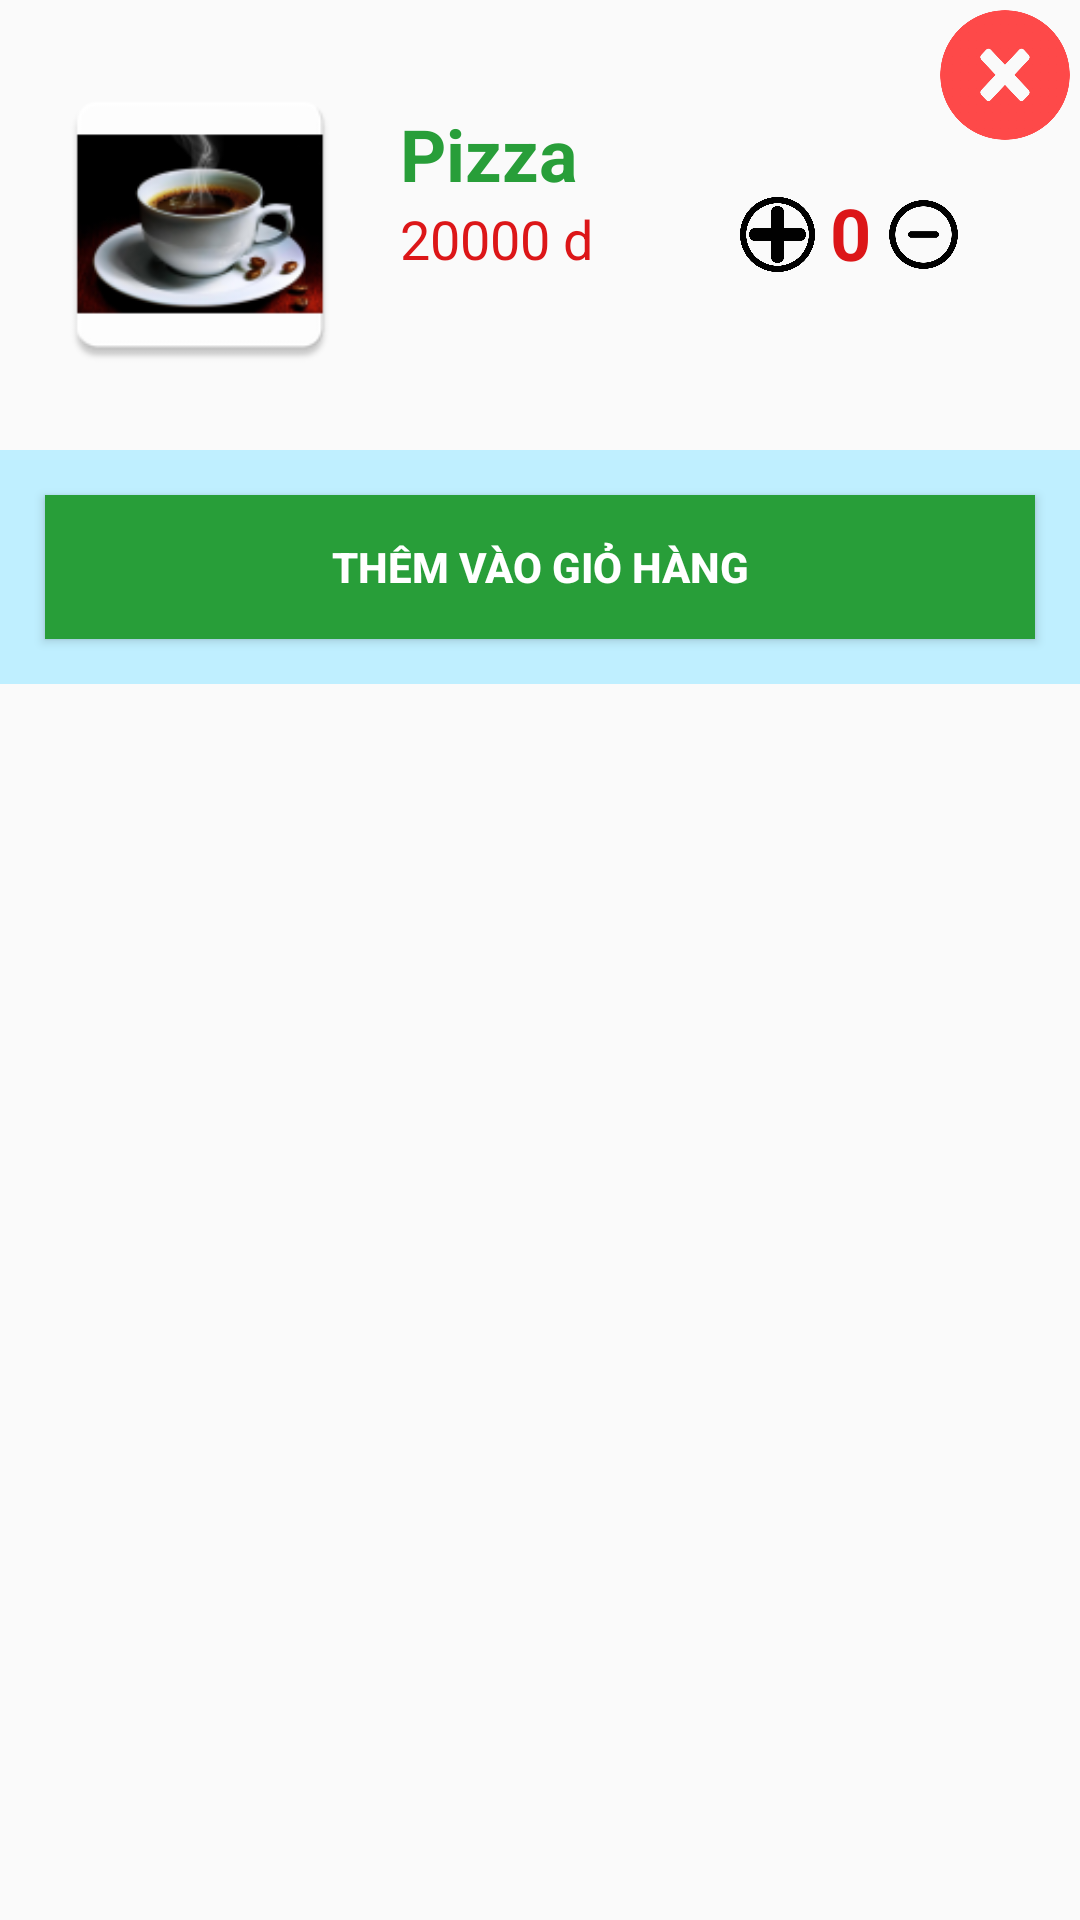

Named icons in this screenshot (1080px×1920px) and their bounding boxes, [x1,y1,x2,y2]:
close: [940,10,1070,140]
